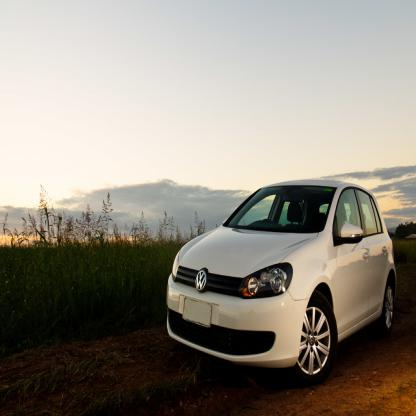Car: (166, 180, 396, 384)
